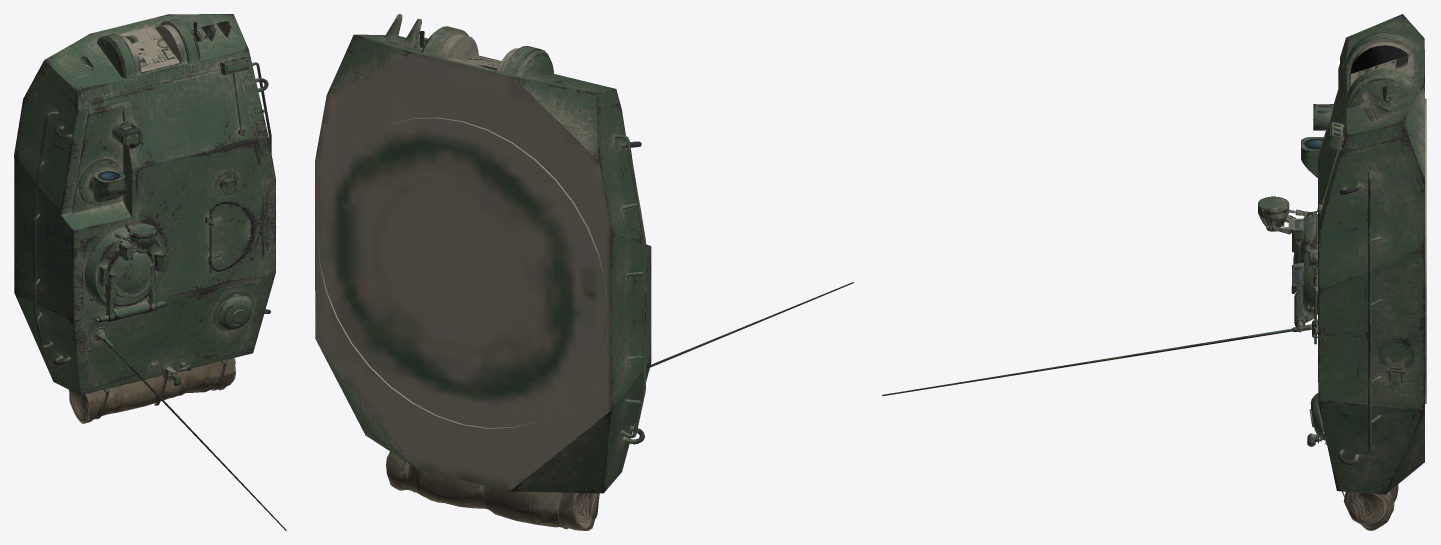
Rendered from Turret_01.glb.
3 views of the same model, side by side, from view 1: azimuth 30°, elevation 25°; view 2: azimuth 150°, elevation 25°; view 3: azimuth 270°, elevation 25° (orthographic). The views are drawn at different scales.
Parts seen in each view (by area): view 1: set_0_group_0; view 2: set_0_group_0; view 3: set_0_group_0.
Part boxes in pixels (x1=…): set_0_group_0: x1=14, y1=14, x2=286, y2=530; set_0_group_0: x1=315, y1=14, x2=853, y2=530; set_0_group_0: x1=882, y1=14, x2=1426, y2=530.
Bounding box in the file's own units: 2.43 × 3.62 × 4.09.
Materials: 1 (1 with a texture image).
